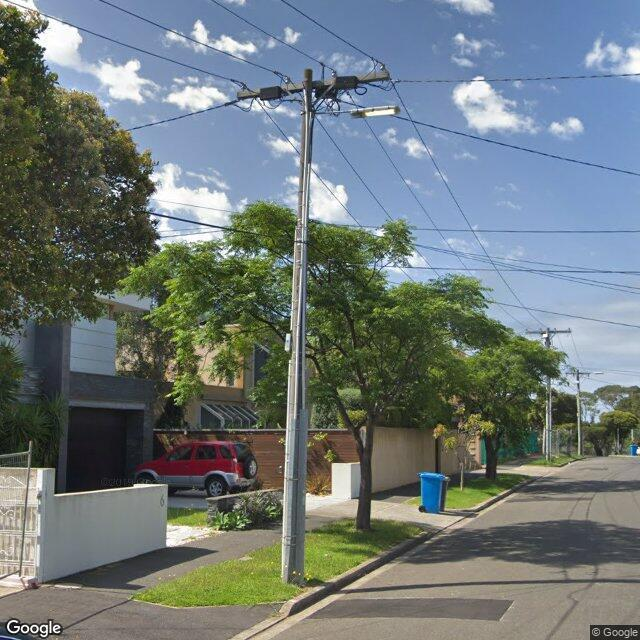crossarm: (237, 70, 390, 100), (525, 331, 571, 334), (566, 372, 591, 374)
streetlight: (312, 105, 400, 118), (590, 372, 604, 374)
timber-pole: (281, 68, 313, 585), (546, 328, 552, 462), (576, 369, 581, 455)
